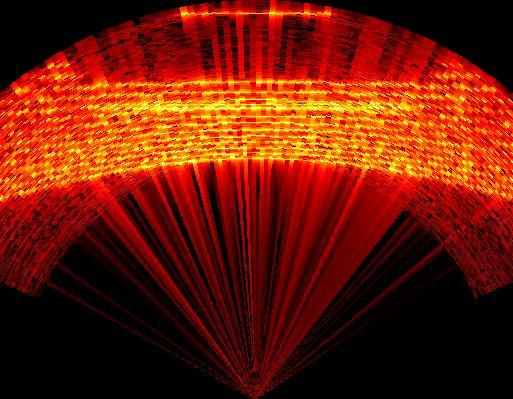pipe: (66, 14, 442, 80)
